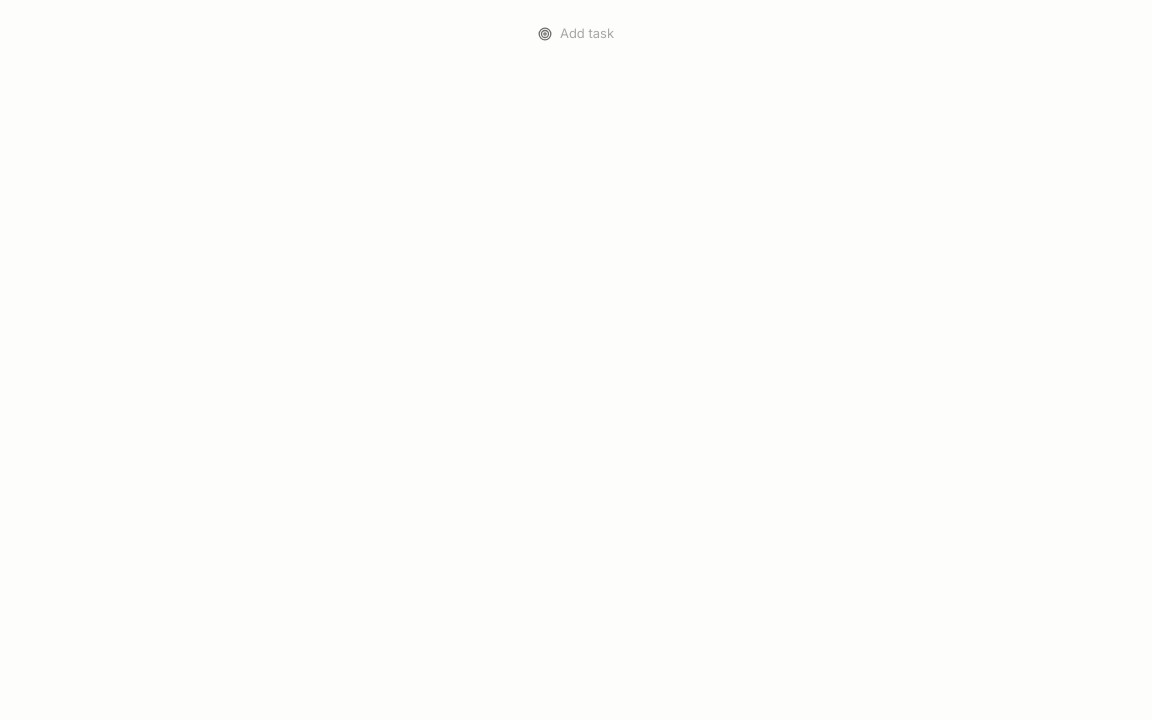
Scenario: FocusTaskPicker › shows completed tasks at opacity-40 with strikethrough and not tappable
The image size is (1152, 720).
Click the button with aria-label "Select focus task" at (576, 34), box top-left (526, 16), bottom-right (626, 52)
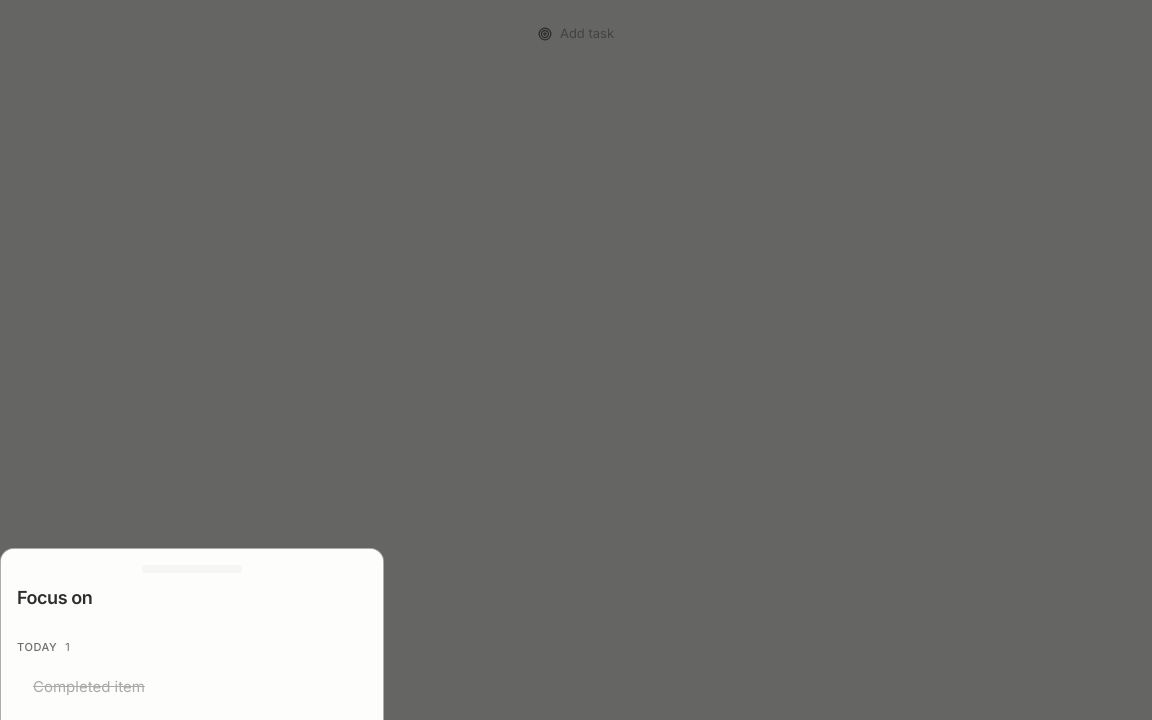
Expected: the text "Completed item" is shown, top-left (33, 677), bottom-right (145, 696)
Expected: the option "Completed item" is shown, top-left (1, 659), bottom-right (383, 715)
